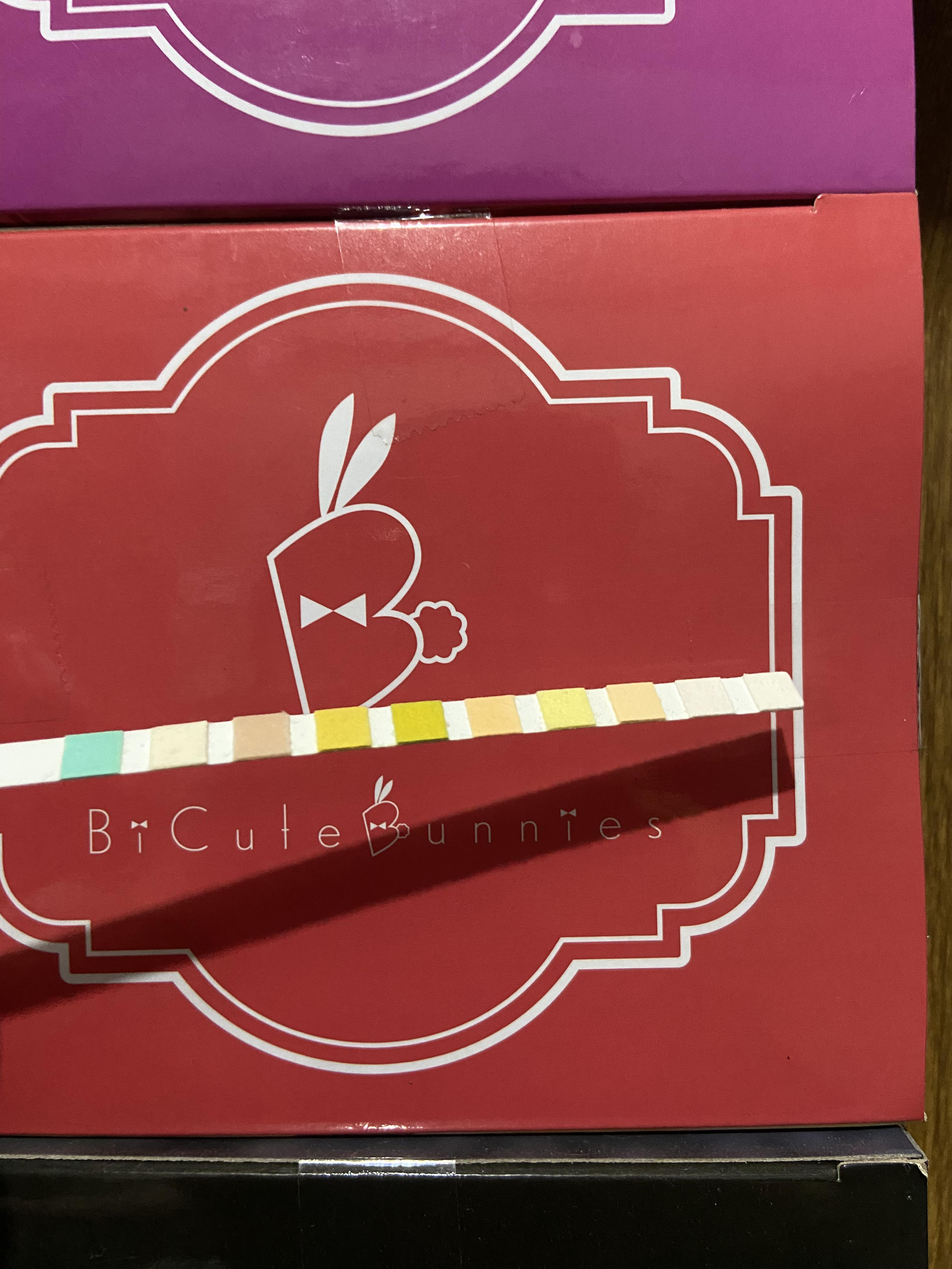Bilirubin: (152, 729, 206, 762)
Blood: (396, 703, 442, 738)
Glucose: (66, 736, 121, 773)
Ketone: (235, 717, 289, 753)
Leukocytes: (756, 673, 788, 705)
Nitrite: (685, 681, 721, 706)
Protein: (545, 691, 585, 724)
SpGravity: (319, 711, 368, 746)
Urobilinogen: (617, 685, 654, 717)
pH: (470, 698, 515, 729)
strip: (2, 672, 802, 789)
